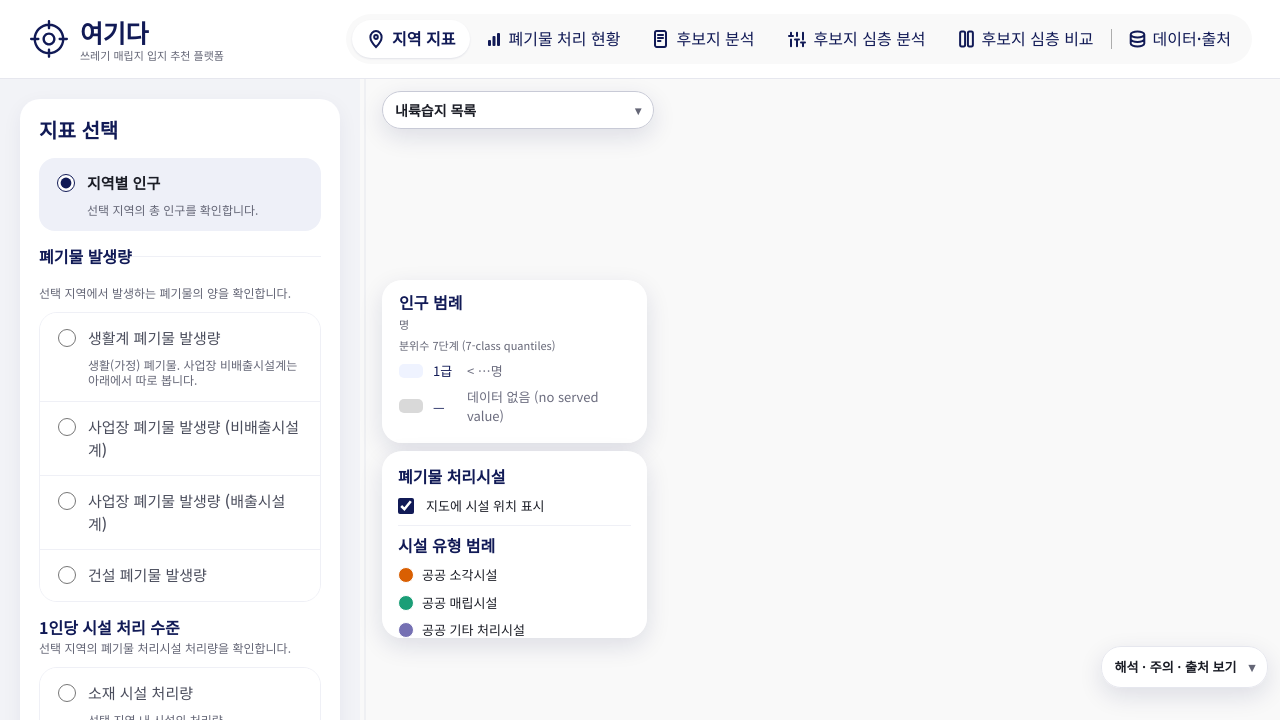
it: the Figma numbered hierarchy › puts ③ 종합 점수와 후보 순위 in the results column, holding BOTH the band and the ranking
Click the button with test id "mode-suitability".
click(856, 39)  # box [772,20,941,58]
(page scrolled)
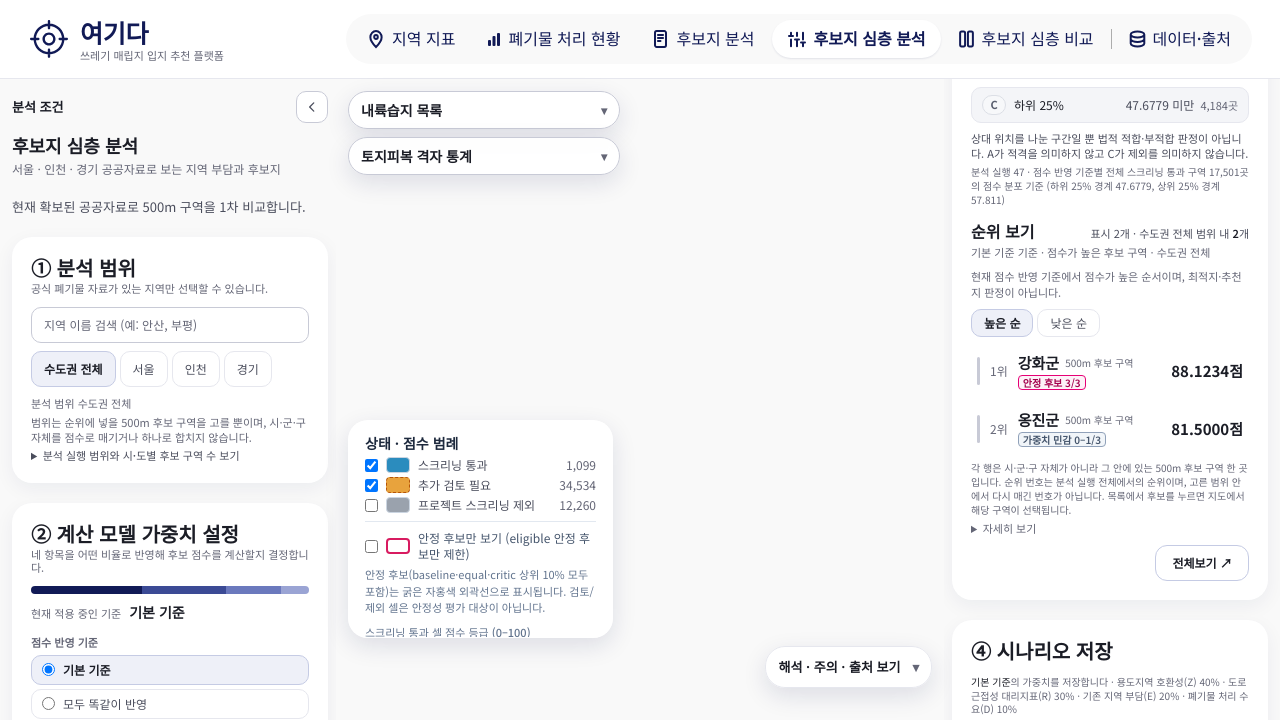
Check: the element with test id "candidate-ranking-counts" is shown, box [1090,225,1249,241]
Check: the element with test id "top-candidates" is shown, box [971,219,1249,581]
